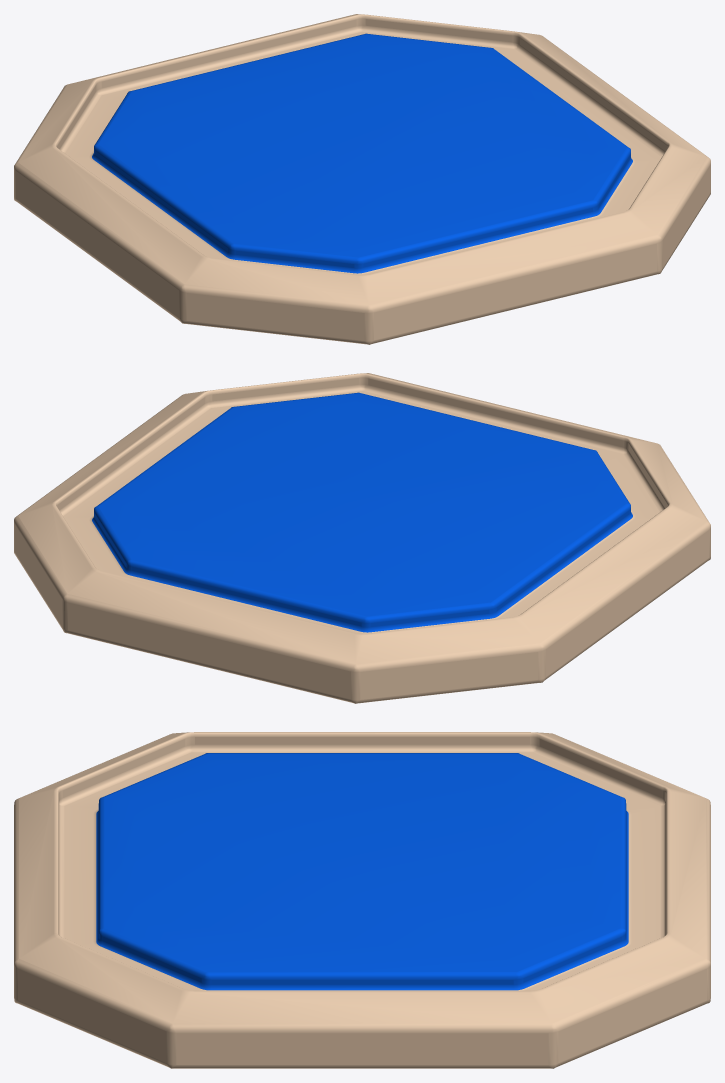
Rendered from P_Button.fbx.
3 views of the same model, one above another, from view 1: azimuth 30°, elevation 25°; view 2: azimuth 150°, elevation 25°; view 3: azimuth 270°, elevation 25° (orthographic). The views are drawn at different scales.
Parts seen in each view (by area): view 1: button 3.003; view 2: button 3.003; view 3: button 3.003.
Part boxes in pixels (bbox=[...]): button 3.003: bbox=[14, 14, 710, 344]; button 3.003: bbox=[14, 373, 710, 703]; button 3.003: bbox=[14, 732, 710, 1068].
Bounding box in the file's own units: 68.83 × 6.8 × 68.83.
